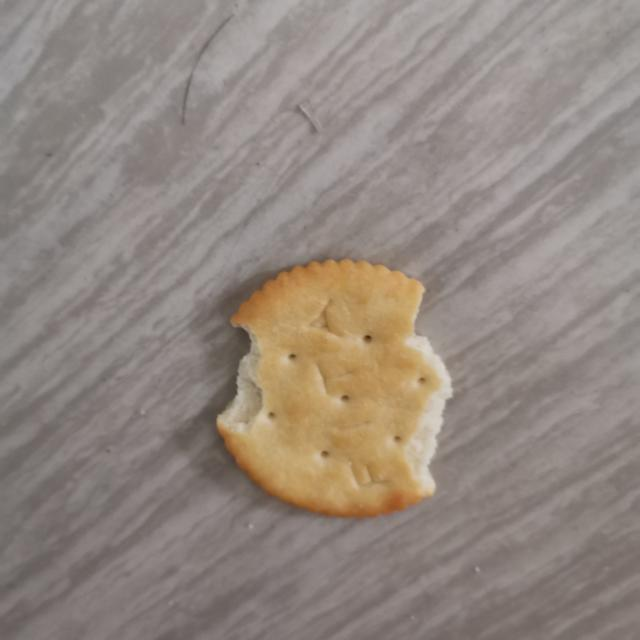Broken: (215, 257, 453, 519)
